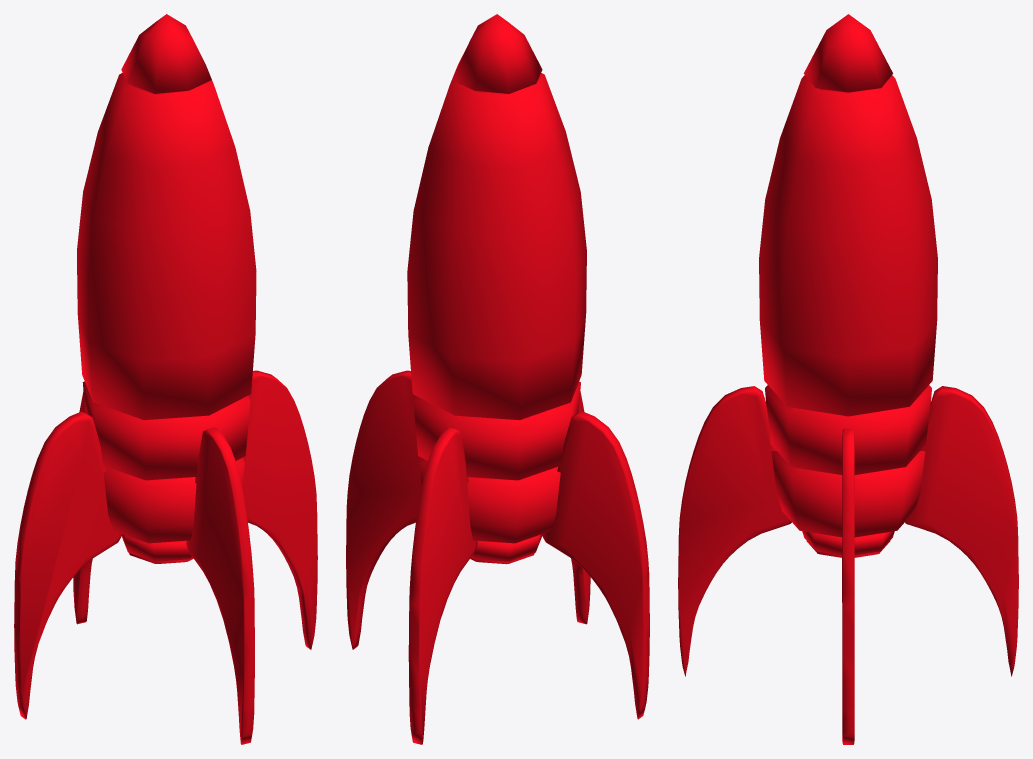
File: missilesfinal2.fbx
3 renders of one model, left to right at view 1: azimuth 30°, elevation 25°; view 2: azimuth 150°, elevation 25°; view 3: azimuth 270°, elevation 25°, orthographic.
Visible parts, largest first — view 1: MissileTest, Wings_Cube.003; view 2: MissileTest, Wings_Cube.003; view 3: MissileTest, Wings_Cube.003.
Part boxes in pixels (box(x1,y1,x2,y2)): MissileTest: box(77, 14, 256, 563); Wings_Cube.003: box(14, 370, 317, 744); MissileTest: box(407, 14, 586, 564); Wings_Cube.003: box(346, 370, 649, 744); MissileTest: box(759, 14, 937, 557); Wings_Cube.003: box(678, 386, 1018, 744).
Size of the model in its own units: 365 by 782 by 365.
2 materials, 2 textured.
